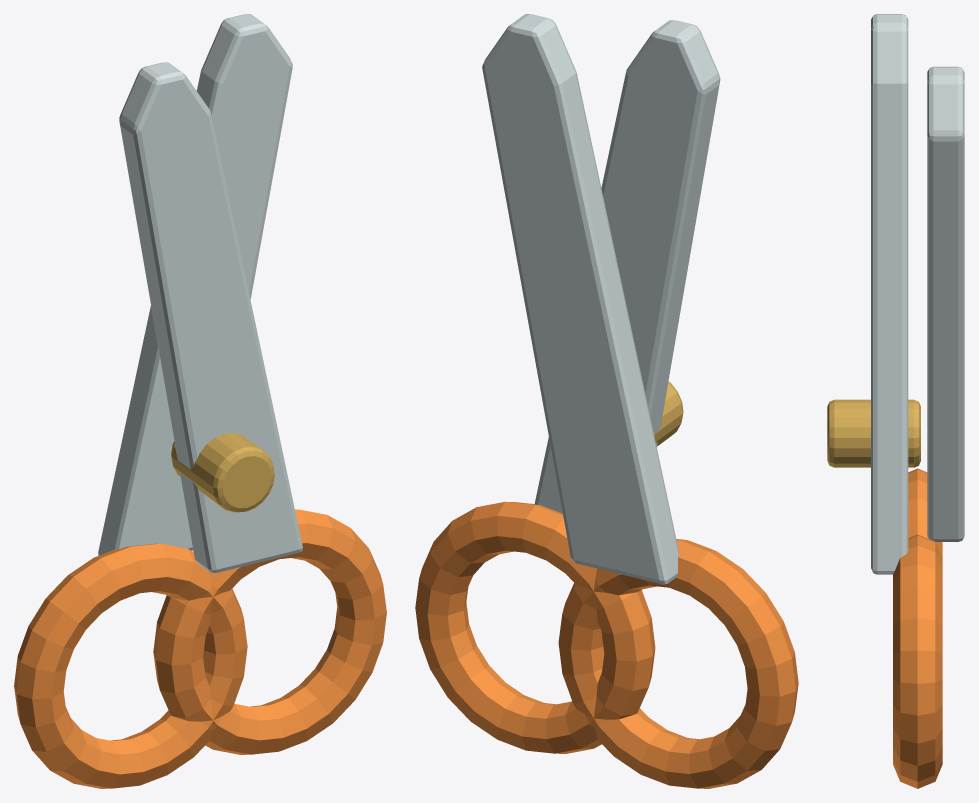
The model's file is P094_safety_scissors.glb.
3 renders of one model, left to right at view 1: azimuth 30°, elevation 25°; view 2: azimuth 150°, elevation 25°; view 3: azimuth 270°, elevation 25°, orthographic. The views are drawn at different scales.
Parts seen in each view (by area): view 1: P094_blade_004, P094_handle_001, P094_blade_002, P094_handle_003, P094_pivot_005; view 2: P094_blade_002, P094_blade_004, P094_handle_003, P094_handle_001, P094_pivot_005; view 3: P094_blade_004, P094_blade_002, P094_handle_003, P094_pivot_005, P094_handle_001.
Part boxes in pixels (x1,y1,x2,y2): P094_blade_004: [119, 62, 302, 572]; P094_handle_001: [14, 543, 247, 788]; P094_blade_002: [98, 14, 292, 555]; P094_handle_003: [153, 509, 386, 754]; P094_pivot_005: [171, 433, 274, 512]; P094_blade_002: [482, 14, 678, 584]; P094_blade_004: [534, 20, 720, 513]; P094_handle_003: [415, 501, 655, 753]; P094_handle_001: [558, 539, 798, 788]; P094_pivot_005: [654, 381, 683, 445]; P094_blade_004: [871, 14, 908, 574]; P094_blade_002: [927, 66, 964, 541]; P094_handle_003: [893, 534, 942, 788]; P094_pivot_005: [827, 399, 920, 467]; P094_handle_001: [908, 468, 942, 558].
Size of the model in its own units: 0.132 by 0.248 by 0.044.
